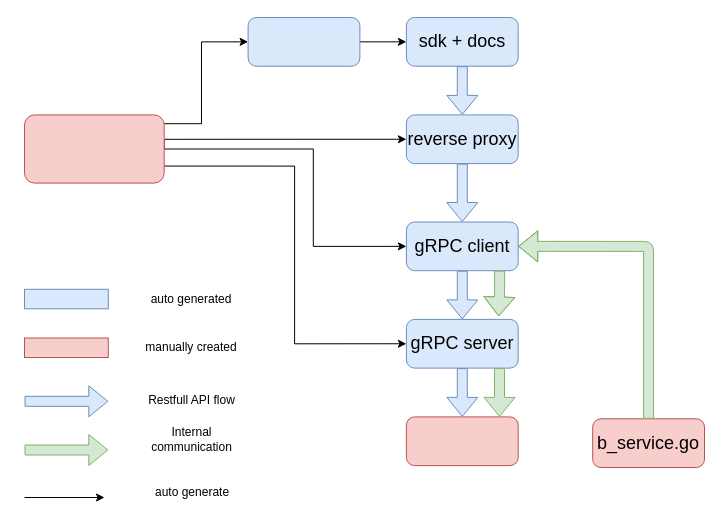
This 722x523 diagram has some shape labels left out. Here are the shapes that lost their labels. From the top down, the centre of each, then its label:
(x=303, y=41): Swagger Annoations
(x=94, y=148): a_service.proto
(x=461, y=441): a_service.go
